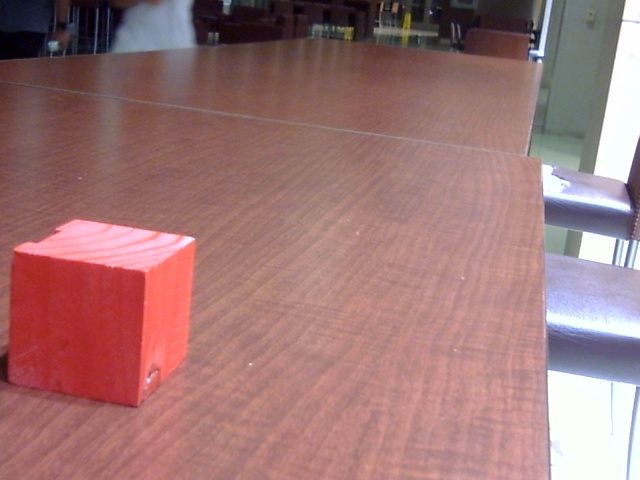RedBlock: (8, 219, 195, 408)
